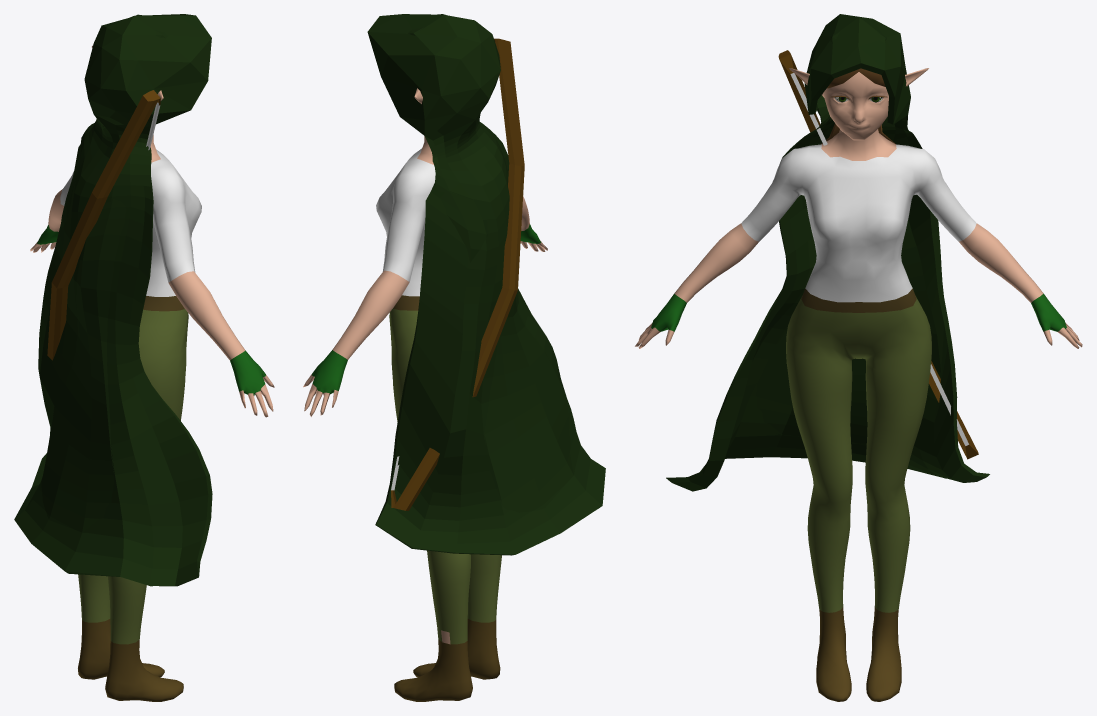
File: bowperson_elf.glb
The picture shows the model from 3 angles, left to right: view 1: azimuth 30°, elevation 25°; view 2: azimuth 150°, elevation 25°; view 3: azimuth 270°, elevation 25°; orthographic projection.
Visible parts, largest first — view 1: Icosphere, body_LP_Plane.008, Cube; view 2: Icosphere, body_LP_Plane.008, Cube; view 3: body_LP_Plane.008, Icosphere, Cube.
Boxes of the visible parts, x1,y1,x2,y2 form: Icosphere: (14, 14, 212, 586); body_LP_Plane.008: (30, 45, 274, 701); Cube: (47, 90, 160, 360); Icosphere: (367, 14, 605, 555); body_LP_Plane.008: (303, 88, 547, 701); Cube: (391, 38, 524, 510); body_LP_Plane.008: (635, 68, 1082, 701); Icosphere: (666, 14, 989, 491); Cube: (778, 50, 978, 459).
Size of the model in its own units: 2.25 by 8.18 by 4.97.
Materials: 11 (2 with a texture image).
